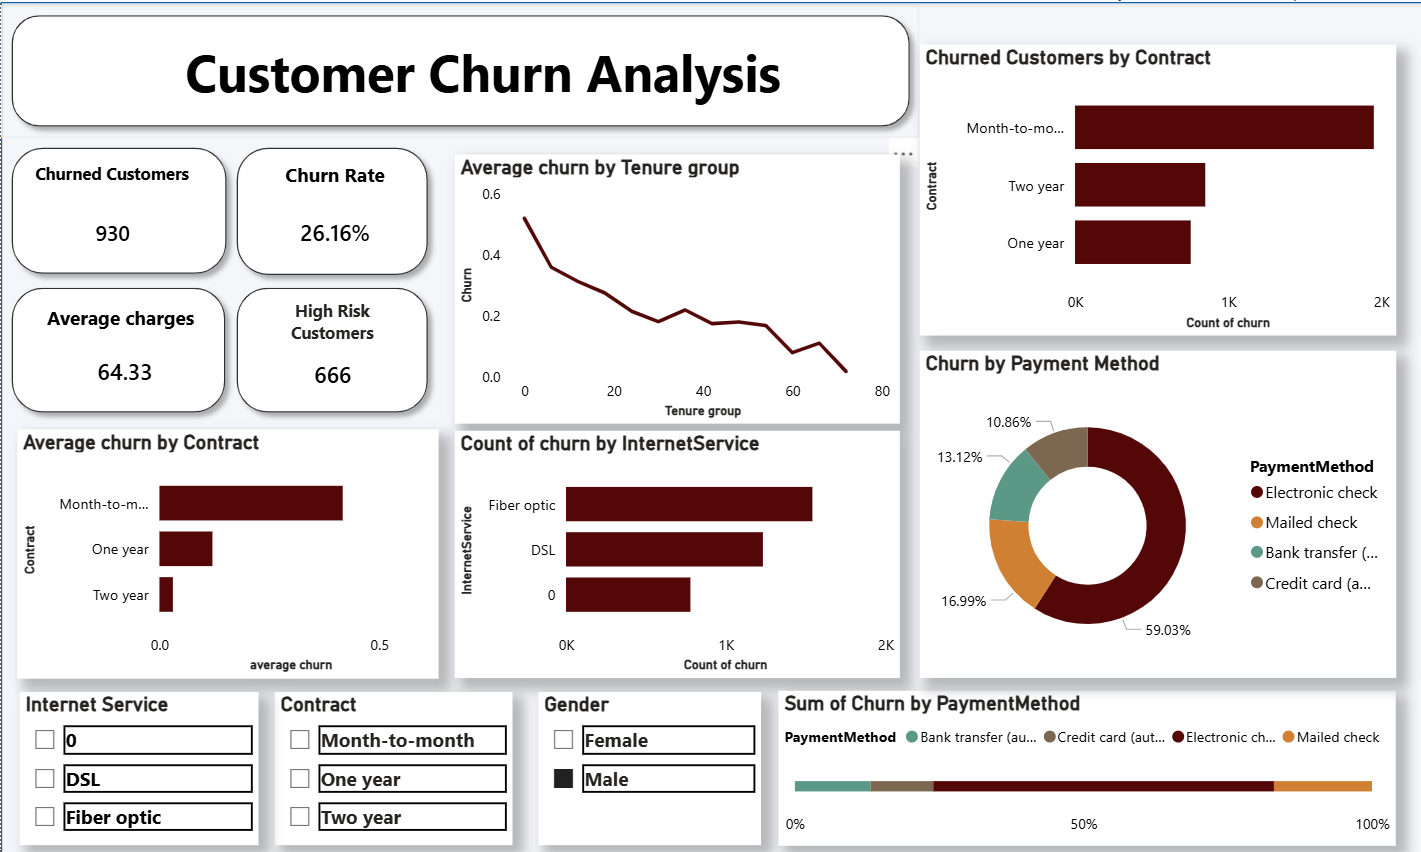

What the dashboard file says about the page in this screenshot:
{"tool":"powerbi","page":{"name":"Page 1","canvas":[1280,720],"ordinal":0},"visuals":[{"type":"shape","box":[0,0,1197.6,720.2],"z":0},{"type":"shape","box":[189.3,113.6,178.7,125.1],"z":1000},{"type":"shape","box":[0,113.6,198.7,124.1],"z":2000},{"type":"shape","box":[0,231.3,197.7,123],"z":3000},{"type":"shape","box":[189.3,231.3,178.7,123],"z":4000},{"type":"shape","box":[0,2.3,773.3,111.6],"z":5000},{"type":"textbox","box":[109.3,24.4,557,67.4],"z":6000},{"type":"textbox","box":[217.4,129.1,126.7,36],"z":7000},{"type":"cardVisual","fields":{"Data":["Customer-Churn-dataset.Churn rate"]},"box":[217.4,162.8,127.9,59.3],"z":8000},{"type":"textbox","box":[22.1,129.1,146.5,36],"z":9000},{"type":"cardVisual","fields":{"Data":["Customer-Churn-dataset.Churned customers"]},"box":[48.8,165.1,91.9,57],"z":10000},{"type":"textbox","box":[33.6,249.2,140.9,36.8],"z":11000},{"type":"cardVisual","fields":{"Data":["Customer-Churn-dataset.Avarage charges"]},"box":[48.4,280.7,112.5,57.8],"z":12000},{"type":"textbox","box":[213.4,245,130.4,47.3],"z":13000},{"type":"cardVisual","fields":{"Data":["Customer-Churn-dataset.High Risk Customers"]},"box":[227.9,286,102.3,52.3],"z":14000},{"type":"clusteredBarChart","title":"Average churn by Contract","fields":{"Y":["Customer-Churn-dataset.average churn"],"Category":["Customer-Churn-dataset.Contract"]},"box":[14,359.3,354.7,209.3],"z":15000},{"type":"lineChart","title":"Average churn by Tenure group","fields":{"Category":["Customer-Churn-dataset.Tenure group"],"Y":["Customer-Churn-dataset.average churn"]},"box":[381.4,127.9,374.4,226.7],"z":16000},{"type":"clusteredBarChart","fields":{"Category":["Customer-Churn-dataset.InternetService"],"Y":["Customer-Churn-dataset.Count of churn"]},"box":[381.4,360.5,374.4,208.1],"z":17000},{"type":"slicer","title":"Contract","fields":{"Values":["Customer-Churn-dataset.Contract"]},"box":[230.2,580.2,200,129.1],"z":18000},{"type":"slicer","title":"Gender","fields":{"Values":["Customer-Churn-dataset.gender"]},"box":[452.3,580.2,187.2,129.1],"z":19000},{"type":"slicer","title":"Internet Service","fields":{"Values":["Customer-Churn-dataset.InternetService"]},"box":[16.3,580.2,201.2,129.1],"z":20000},{"type":"hundredPercentStackedBarChart","fields":{"Y":["Sum(Customer-Churn-dataset.Churn)"],"Series":["Customer-Churn-dataset.PaymentMethod"]},"box":[654,579.3,519.4,130.4],"z":21000},{"type":"clusteredBarChart","title":"Churned Customers by Contract","fields":{"Category":["Customer-Churn-dataset.Contract"],"Y":["Customer-Churn-dataset.Count churn"]},"box":[772.8,35.7,400.6,245],"z":22000},{"type":"donutChart","title":"Churn by Payment Method","fields":{"Y":["Sum(Customer-Churn-dataset.Churn)"],"Category":["Customer-Churn-dataset.PaymentMethod"]},"box":[772.8,293.3,400.6,275.5],"z":23000}]}

Visuals, with their boxes on the page's 1280x720 design canvas (x1, y1, x2, y2). These are canvas units, not pixel positions in the 1421x852 screenshot, which may show the page scaled, cropped or inside an application window:
shape: (left=0, top=0, right=1198, bottom=720)
shape: (left=189, top=114, right=368, bottom=239)
shape: (left=0, top=114, right=199, bottom=238)
shape: (left=0, top=231, right=198, bottom=354)
shape: (left=189, top=231, right=368, bottom=354)
shape: (left=0, top=2, right=773, bottom=114)
textbox: (left=109, top=24, right=666, bottom=92)
textbox: (left=217, top=129, right=344, bottom=165)
cardVisual - Customer-Churn-dataset.Churn rate: (left=217, top=163, right=345, bottom=222)
textbox: (left=22, top=129, right=169, bottom=165)
cardVisual - Customer-Churn-dataset.Churned customers: (left=49, top=165, right=141, bottom=222)
textbox: (left=34, top=249, right=174, bottom=286)
cardVisual - Customer-Churn-dataset.Avarage charges: (left=48, top=281, right=161, bottom=338)
textbox: (left=213, top=245, right=344, bottom=292)
cardVisual - Customer-Churn-dataset.High Risk Customers: (left=228, top=286, right=330, bottom=338)
"Average churn by Contract" clusteredBarChart: (left=14, top=359, right=369, bottom=569)
"Average churn by Tenure group" lineChart: (left=381, top=128, right=756, bottom=355)
clusteredBarChart - Customer-Churn-dataset.InternetService x Customer-Churn-dataset.Count of churn: (left=381, top=360, right=756, bottom=569)
"Contract" slicer: (left=230, top=580, right=430, bottom=709)
"Gender" slicer: (left=452, top=580, right=640, bottom=709)
"Internet Service" slicer: (left=16, top=580, right=218, bottom=709)
hundredPercentStackedBarChart - Sum(Customer-Churn-dataset.Churn) x Customer-Churn-dataset.PaymentMethod: (left=654, top=579, right=1173, bottom=710)
"Churned Customers by Contract" clusteredBarChart: (left=773, top=36, right=1173, bottom=281)
"Churn by Payment Method" donutChart: (left=773, top=293, right=1173, bottom=569)
